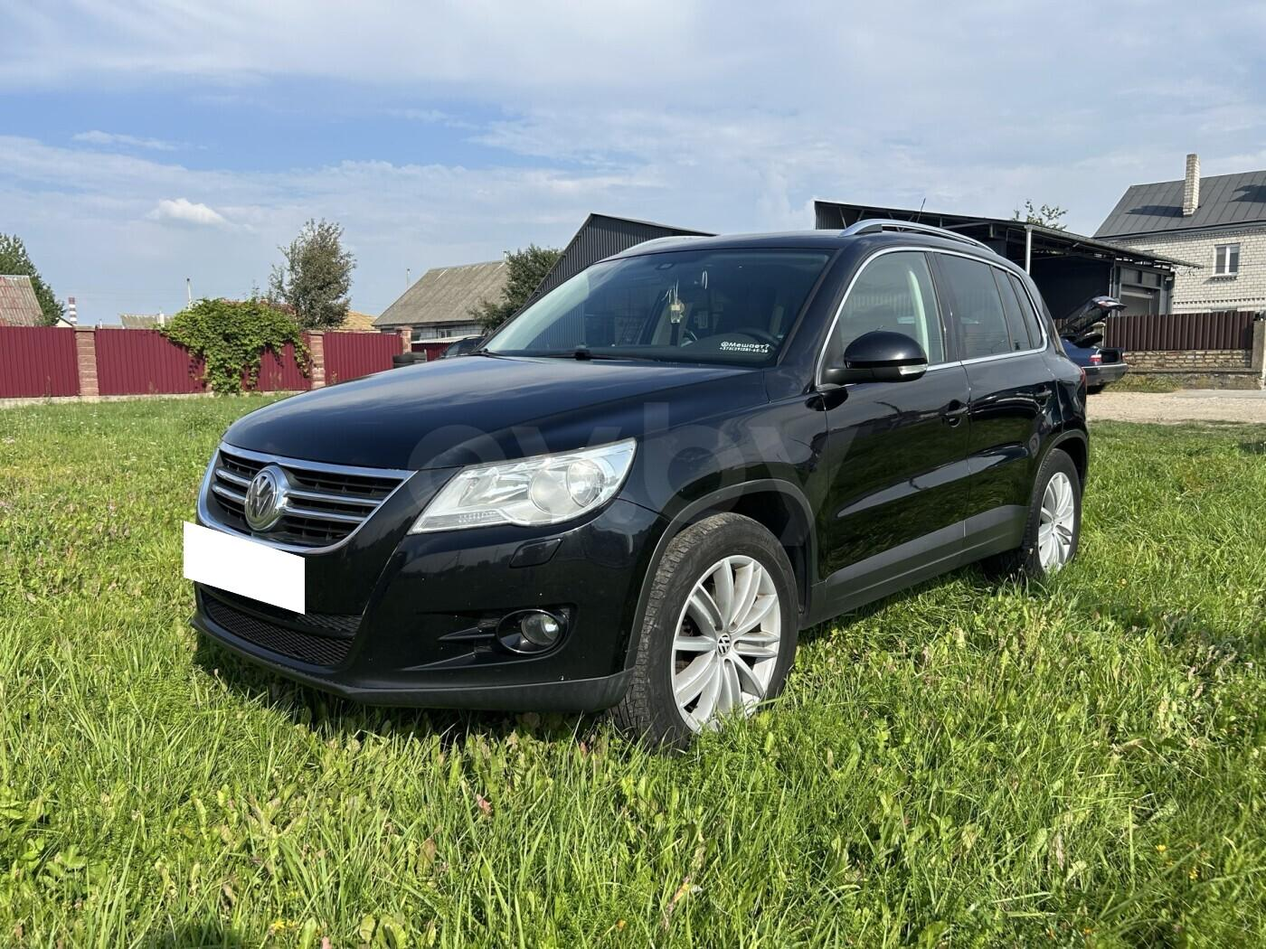Tiguan_2007-2011: (189, 219, 1094, 754)
